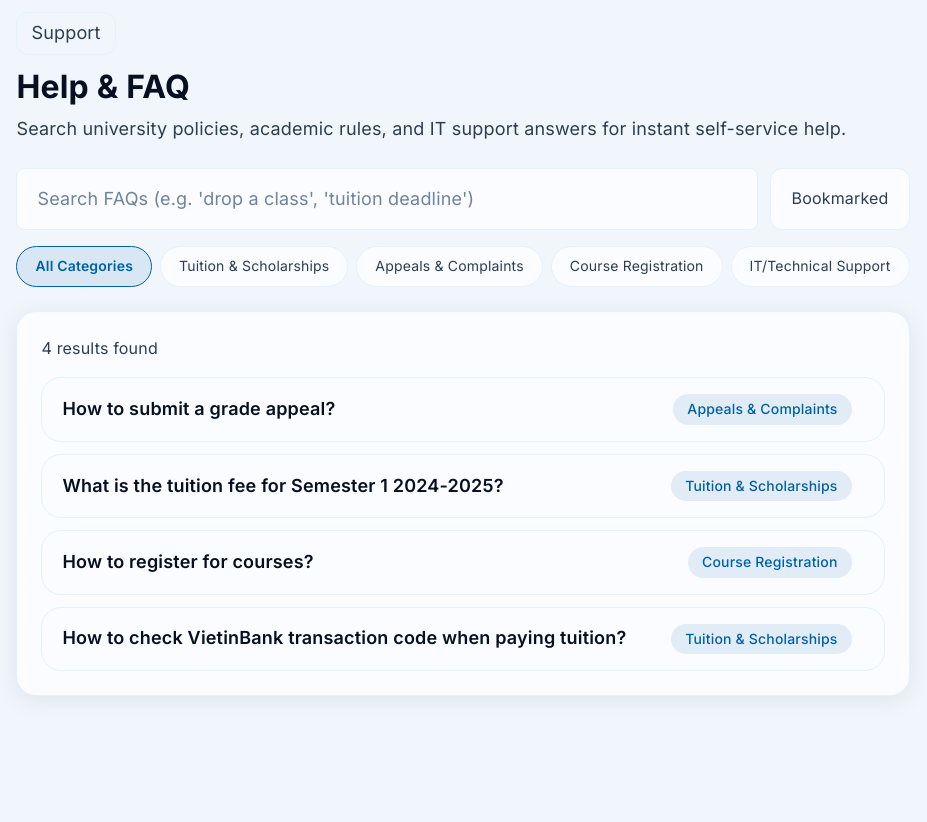
Test: FG06 - Centralized FAQ Access › TC_FAQ_17: click Yes, then reload and view again -> Yes button is disabled/highlighted
This screenshot has width=927, height=822.
Click the text "How to submit a grade appeal?". click: (199, 410)
box: [62,395,335,424]
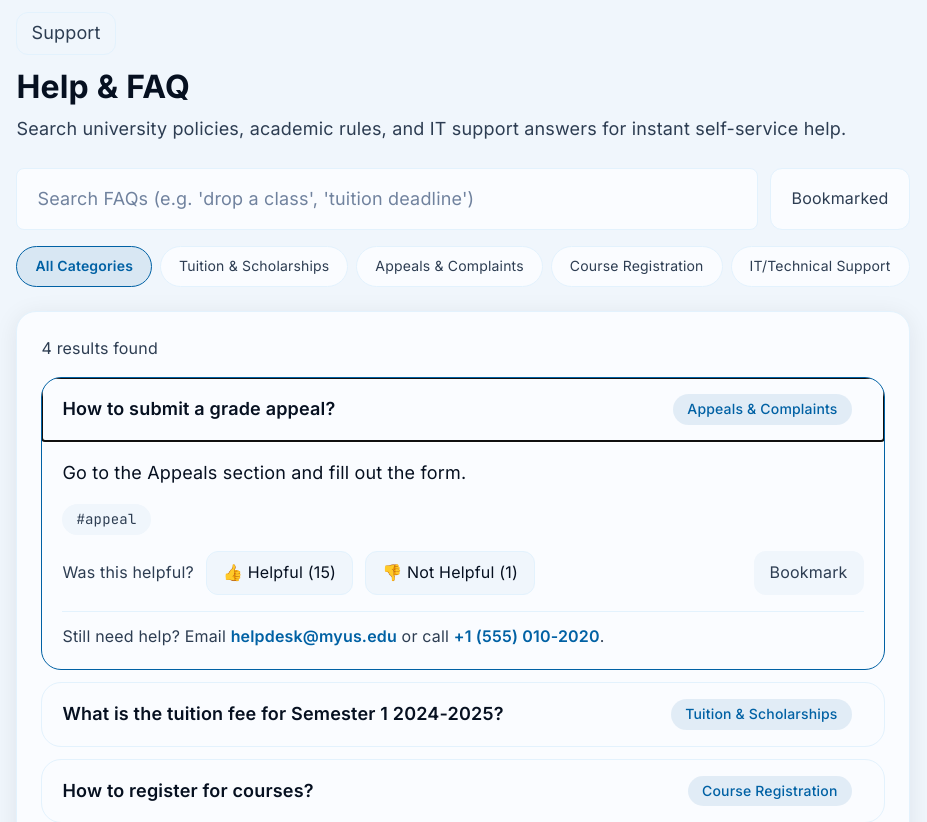
Click the button "👍 Helpful (15)". click: (279, 573)
box: [206,551,353,595]
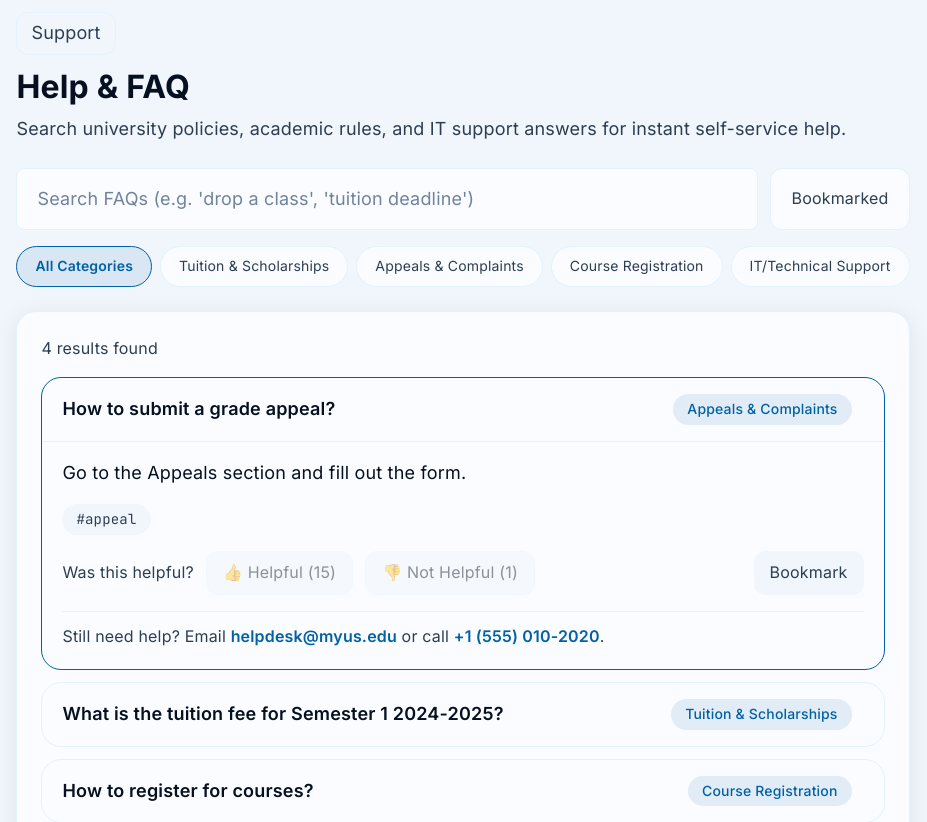
Result: the button "👍 Helpful (15)" is disabled at [206,551,353,595]
